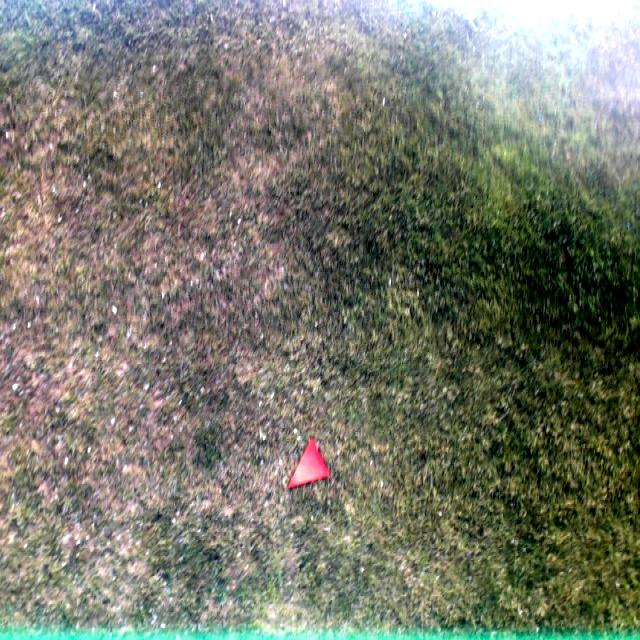red_triangle: (288, 440, 330, 492)
